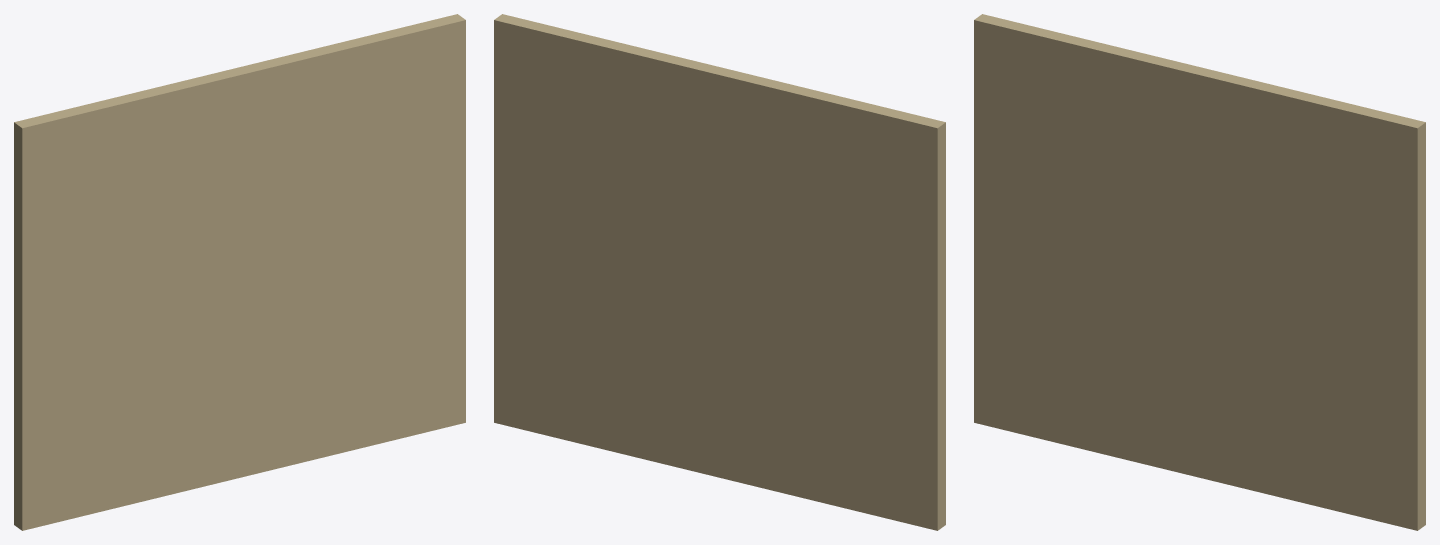
The picture shows the model from 3 angles, left to right: view 1: azimuth 30°, elevation 25°; view 2: azimuth 150°, elevation 25°; view 3: azimuth 330°, elevation 25°; orthographic projection.
Visible parts, largest first — view 1: GF-W014; view 2: GF-W014; view 3: GF-W014.
Boxes of the visible parts, bbox=[...] form: GF-W014: bbox=[14, 14, 465, 530]; GF-W014: bbox=[494, 14, 945, 530]; GF-W014: bbox=[974, 14, 1425, 530].
Size of the model in its own units: 2.79 by 2.42 by 0.09.
